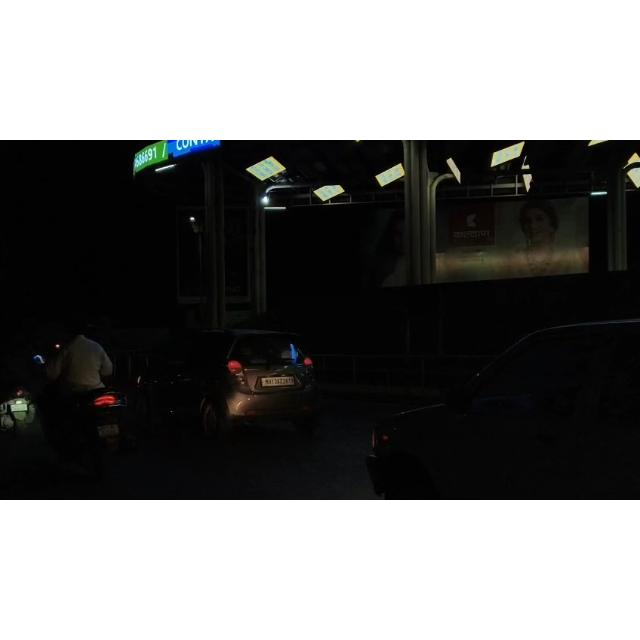car: (366, 309, 639, 500), (118, 322, 334, 446)
